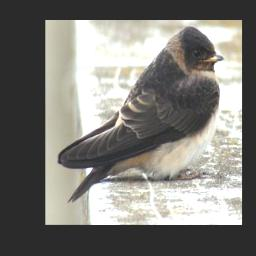Swallow: (56, 25, 225, 206)
